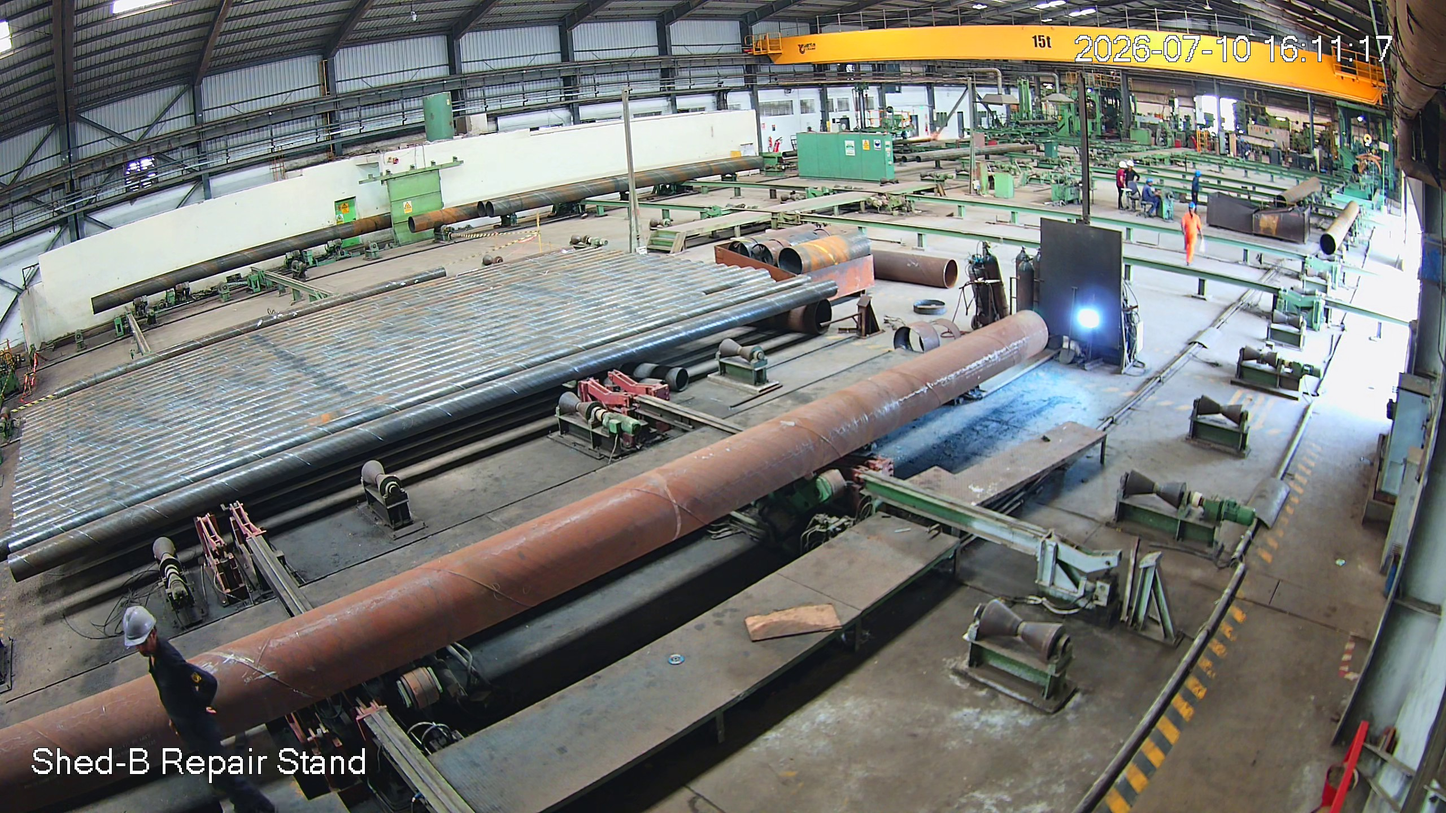Helmet: (114, 598, 182, 671)
Person: (118, 602, 261, 813)
